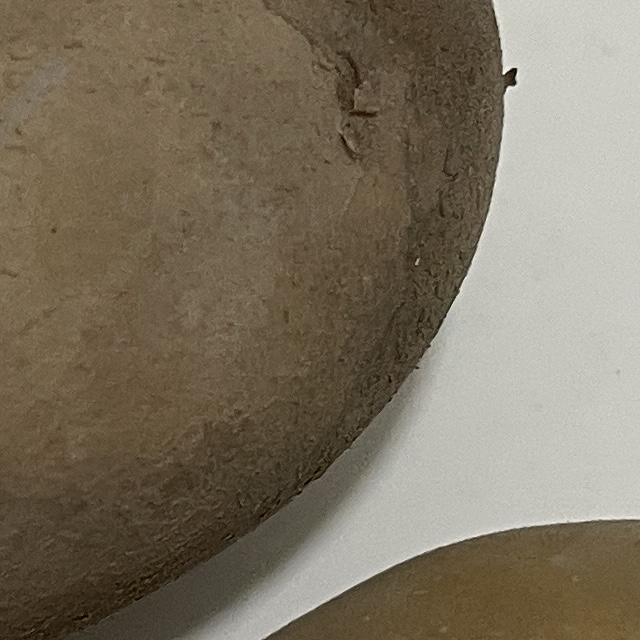potato: (0, 0, 640, 640), (0, 0, 526, 640), (0, 475, 640, 640)
